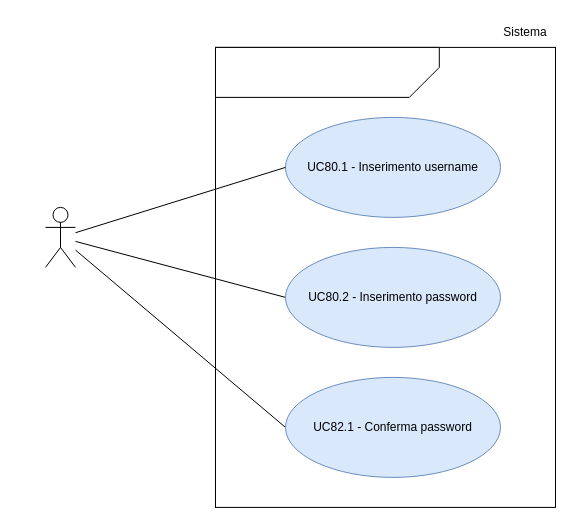
The diagram is 573 pixels wide and 525 high, and some of its shapes have lost their labels. The shapes that lost their labels are listed below. From the top down, each one's centre as x and y in pixels, then its label:
the point at 326,71: UC82 - Registrazione nuovo account
the point at 60,236: Utente non riconosciuto
